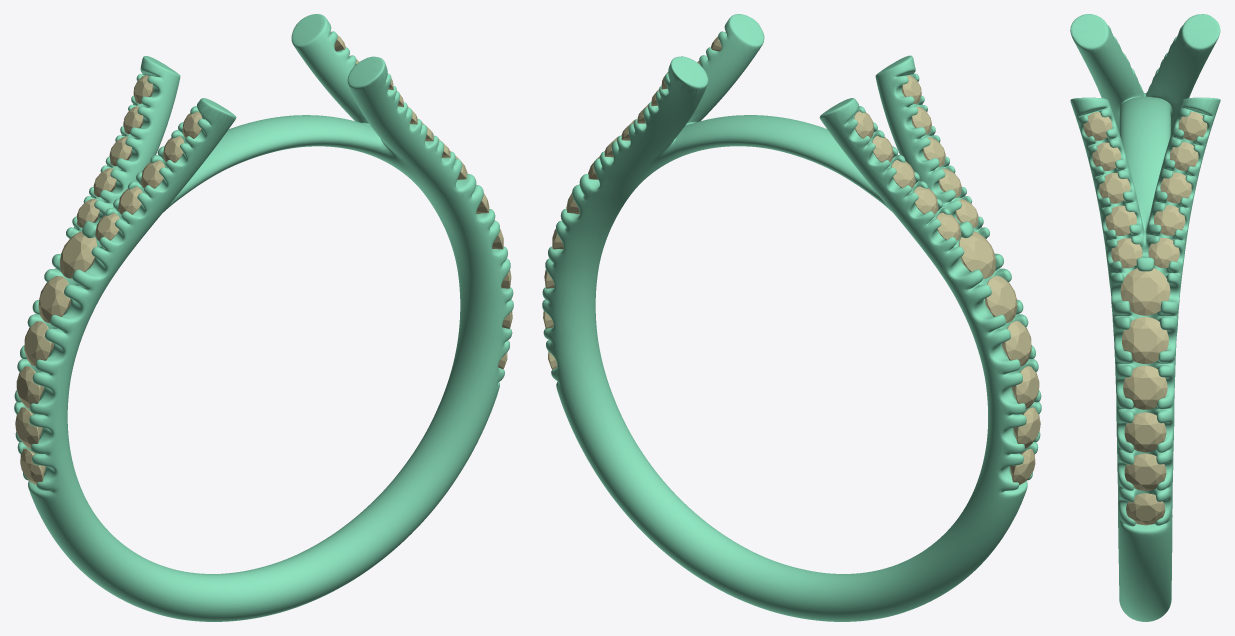
3 views of the same model, side by side, from view 1: azimuth 30°, elevation 25°; view 2: azimuth 150°, elevation 25°; view 3: azimuth 270°, elevation 25° (orthographic). The views are drawn at different scales.
Parts seen in each view (by area): view 1: Metal02, Diamond_Gem.010, Diamond_Gem.009, Diamond_Gem.008, Diamond_Gem.007, Diamond_Gem.006; view 2: Metal02, Diamond_Gem.010, Diamond_Gem.009, Diamond_Gem.008, Diamond_Gem.007, Diamond_Gem.006; view 3: Metal02, Diamond_Gem.021, Diamond_Gem.022, Diamond_Gem.023, Diamond_Gem.024, Diamond_Gem.025, Diamond_Gem.026, Diamond_Gem.018, Diamond_Gem.017, Diamond_Gem.027, Diamond_Gem.016, Diamond_Gem.028 (+5 smaller).
Part boxes in pixels (x1,y1,x2,y2): Metal02: (14,14,513,621); Diamond_Gem.010: (60,231,97,278); Diamond_Gem.009: (38,276,70,323); Diamond_Gem.008: (24,321,53,366); Diamond_Gem.007: (16,366,44,408); Diamond_Gem.006: (15,407,42,448); Metal02: (542,14,1041,621); Diamond_Gem.010: (958,231,995,278); Diamond_Gem.009: (985,276,1017,322); Diamond_Gem.008: (1002,321,1031,366); Diamond_Gem.007: (1011,366,1039,408); Diamond_Gem.006: (1013,407,1040,448); Metal02: (1070,14,1220,621); Diamond_Gem.021: (1120,268,1170,315); Diamond_Gem.022: (1122,317,1168,363); Diamond_Gem.023: (1123,365,1167,409); Diamond_Gem.024: (1124,412,1166,452); Diamond_Gem.025: (1124,453,1166,490); Diamond_Gem.026: (1126,493,1165,525); Diamond_Gem.018: (1148,238,1179,268); Diamond_Gem.017: (1160,172,1191,203); Diamond_Gem.027: (1111,238,1142,268); Diamond_Gem.016: (1154,205,1185,235); Diamond_Gem.028: (1105,205,1136,235).
Bounding box in the file's own units: 20.93 × 22.79 × 5.75.
